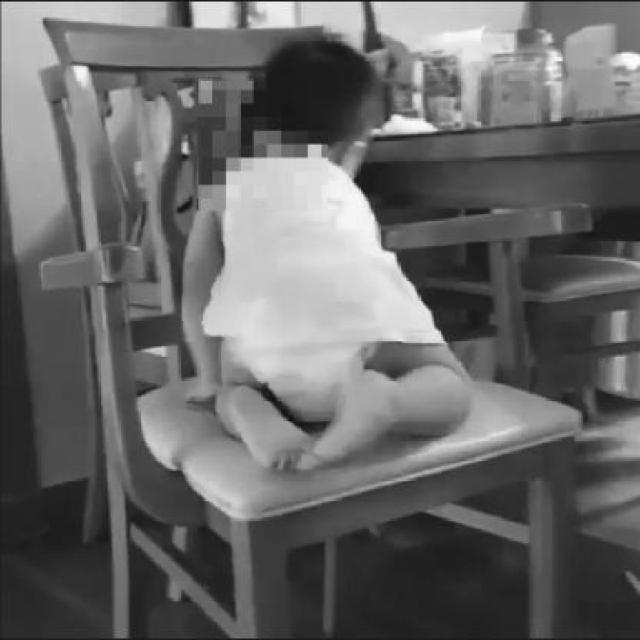child: (177, 14, 491, 488)
